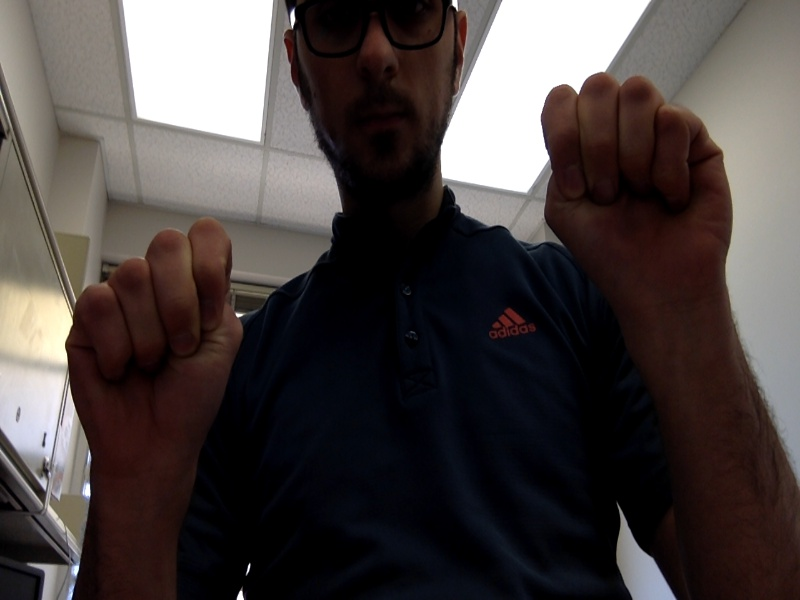0-hand: (65, 218, 243, 469), (541, 74, 732, 304)
